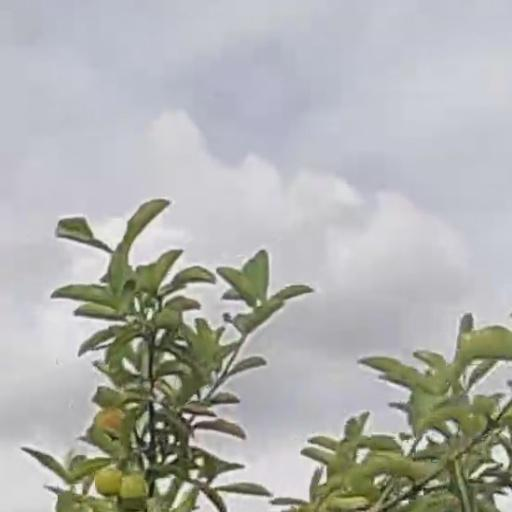acerola_verde: (121, 477, 148, 507), (95, 468, 117, 497)
